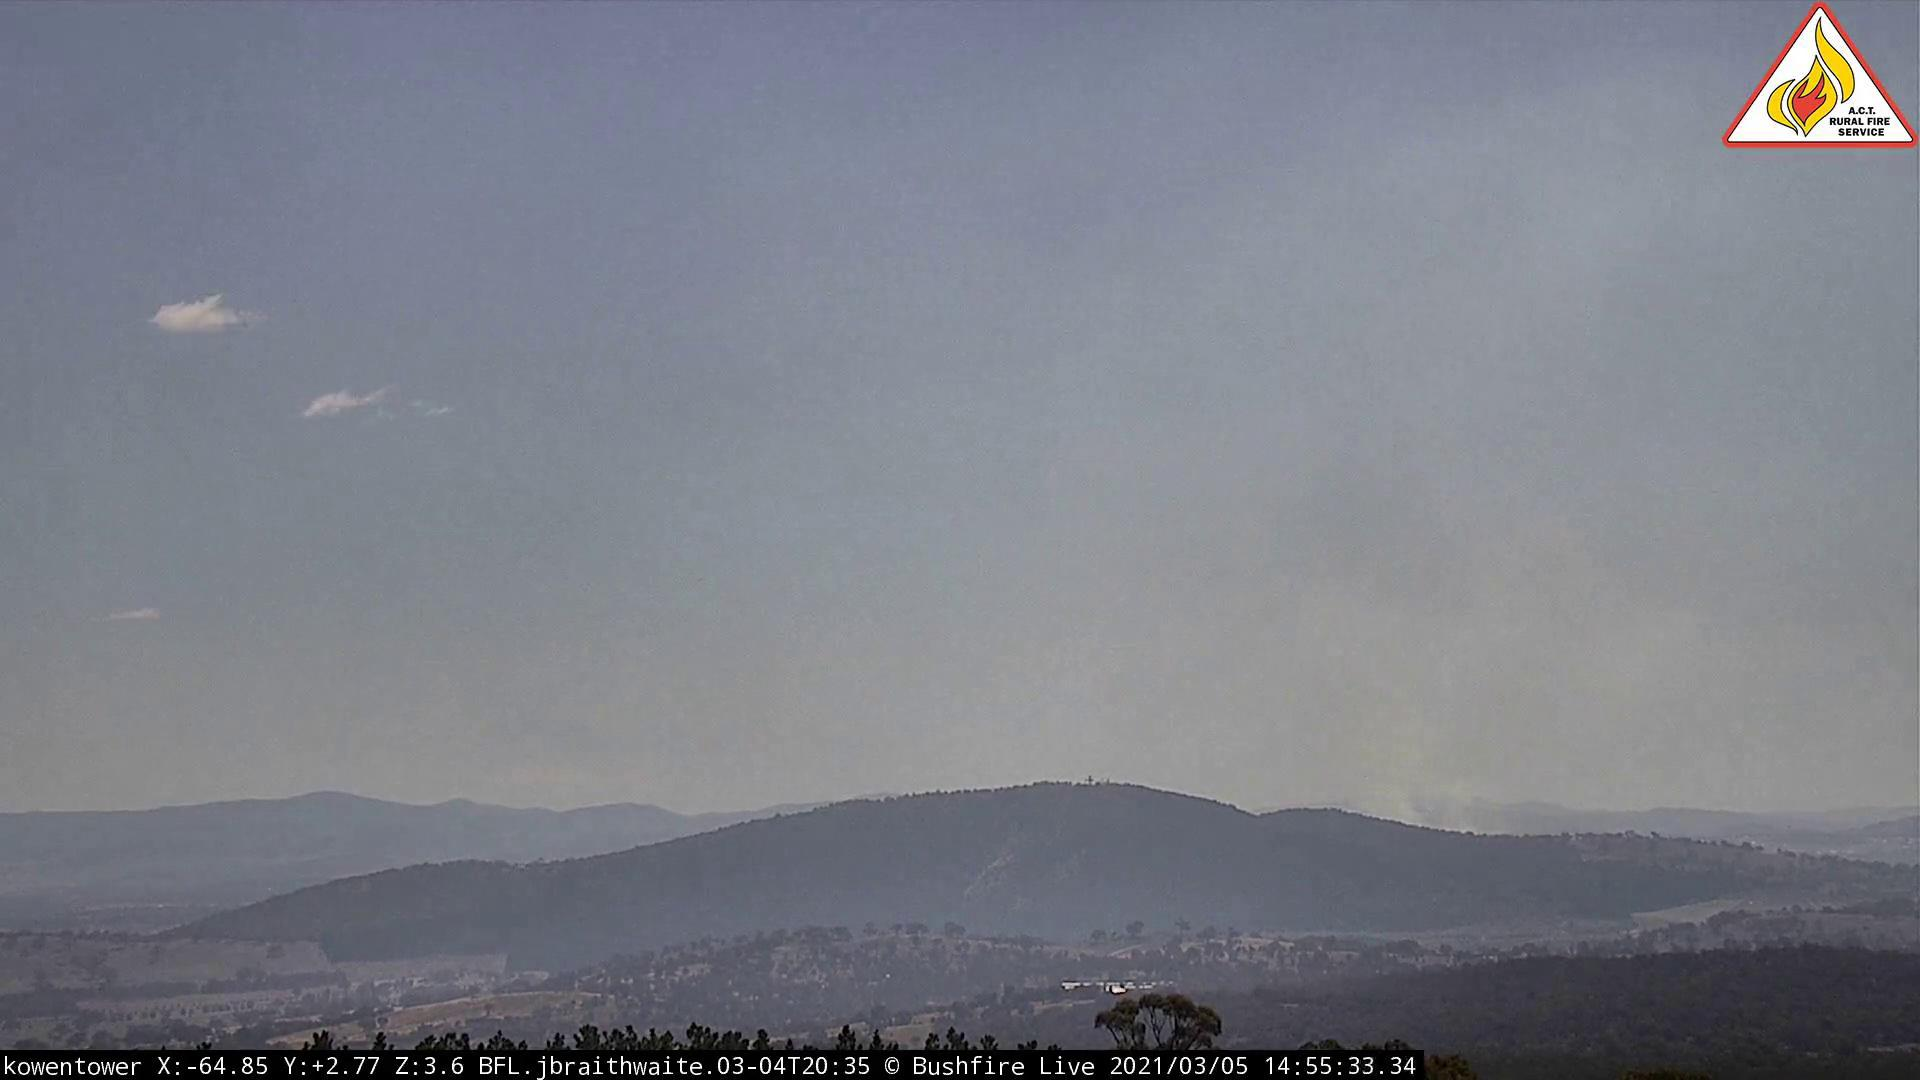Smoke: (1052, 430, 1795, 835)
